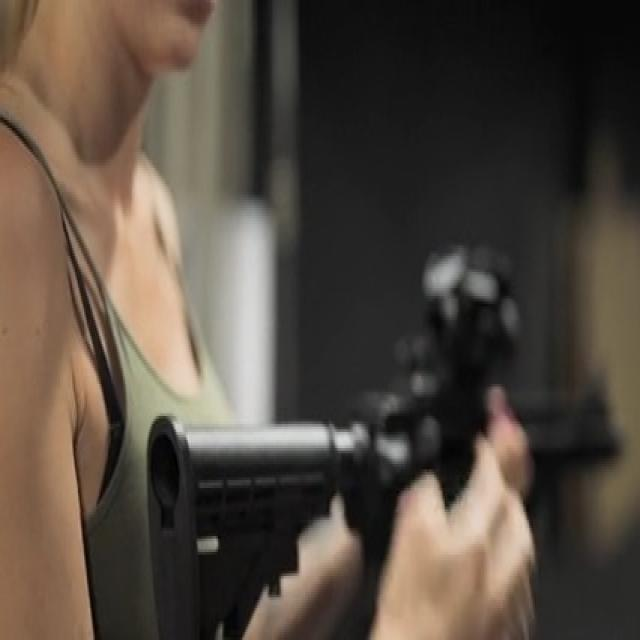Gun_Holder: (113, 222, 640, 634)
